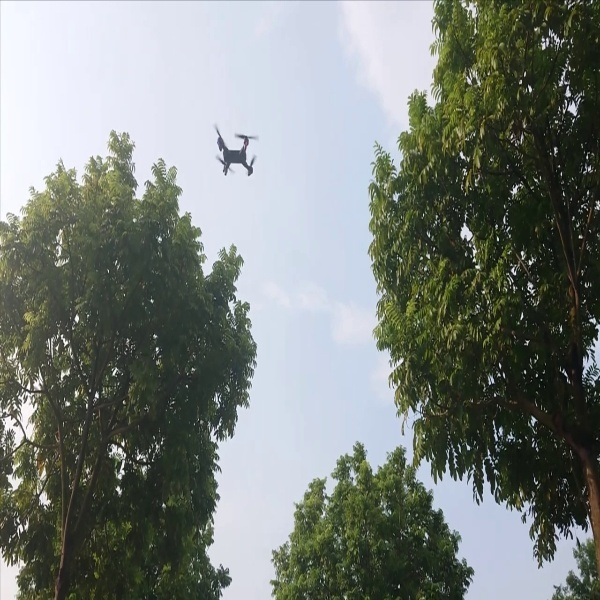drone: (197, 113, 277, 185)
